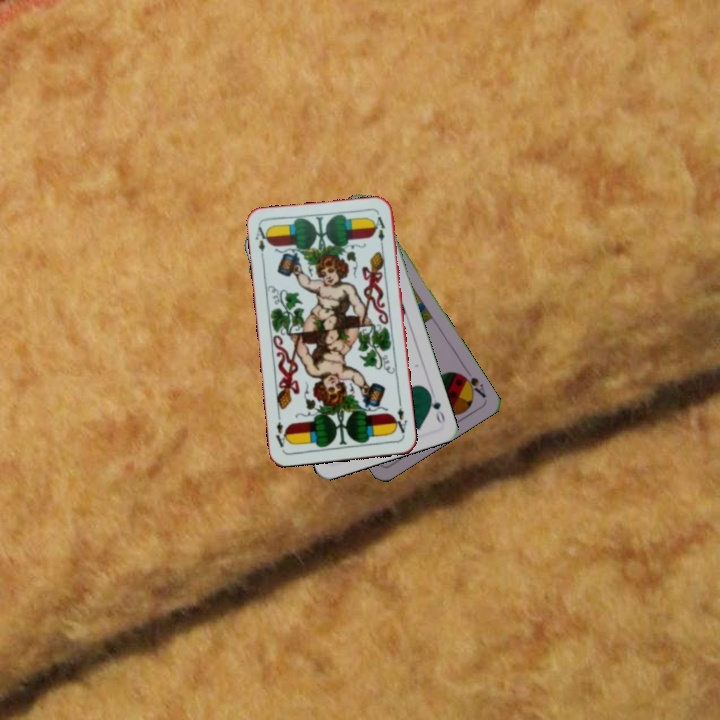EA: (251, 223, 271, 263), (390, 398, 409, 438)
GO: (424, 388, 447, 427)
SA: (456, 369, 489, 401)
